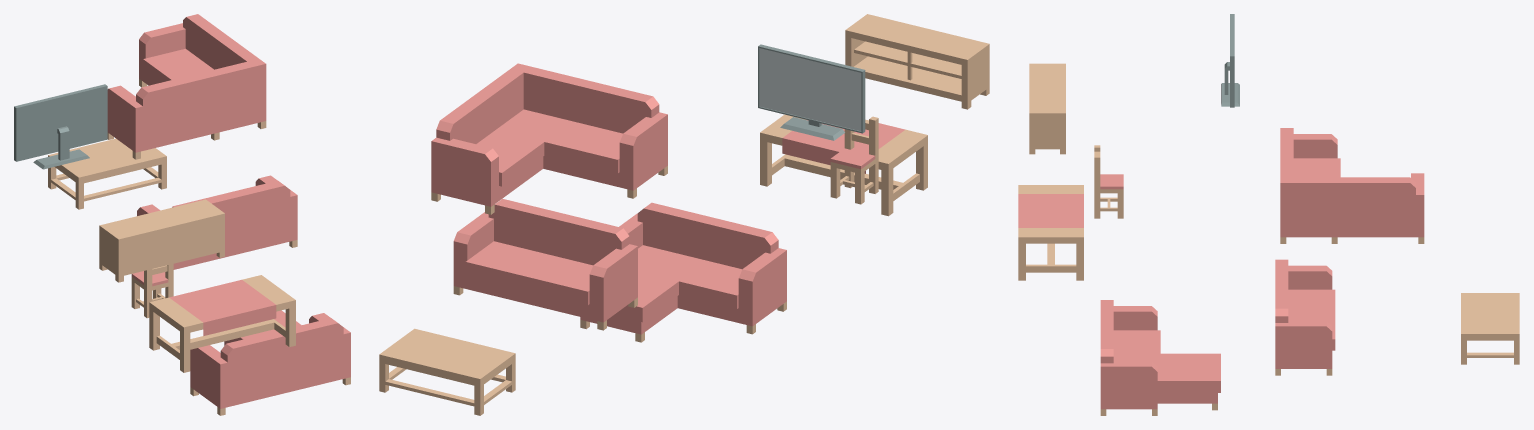
Rendered from livingRoom.dae.
The picture shows the model from 3 angles, left to right: view 1: azimuth 30°, elevation 25°; view 2: azimuth 150°, elevation 25°; view 3: azimuth 270°, elevation 25°; orthographic projection. The views are drawn at different scales.
Parts seen in each view (by area): view 1: loungeSofaCorner, loungeSofaLong, tableCloth, cabinetTelevision, televisionModern, loungeSofa, tableCoffee, chairCushion; view 2: loungeSofaCorner, loungeSofa, loungeSofaLong, cabinetTelevision, televisionModern, tableCloth, tableCoffee, chairCushion; view 3: loungeSofaCorner, loungeSofaLong, loungeSofa, tableCloth, tableCoffee, cabinetTelevision, chairCushion, televisionModern.
Boxes of the visible parts, <box> form: loungeSofaCorner: <box>107,14,266,159</box>; loungeSofaLong: <box>190,310,350,415</box>; tableCloth: <box>149,275,295,372</box>; cabinetTelevision: <box>99,199,224,282</box>; televisionModern: <box>14,84,107,169</box>; loungeSofa: <box>137,175,297,269</box>; tableCoffee: <box>48,138,166,209</box>; chairCushion: <box>131,263,173,318</box>; loungeSofaCorner: <box>431,63,667,214</box>; loungeSofa: <box>453,198,637,330</box>; loungeSofaLong: <box>580,202,786,342</box>; cabinetTelevision: <box>845,14,989,109</box>; televisionModern: <box>758,44,865,140</box>; tableCloth: <box>760,114,927,216</box>; tableCoffee: <box>379,328,515,415</box>; chairCushion: <box>830,116,878,204</box>; loungeSofaCorner: <box>1280,128,1424,243</box>; loungeSofaLong: <box>1100,300,1220,415</box>; loungeSofa: <box>1275,259,1335,375</box>; tableCloth: <box>1018,185,1083,280</box>; tableCoffee: <box>1461,293,1519,364</box>; cabinetTelevision: <box>1029,63,1065,154</box>; chairCushion: <box>1094,145,1123,218</box>; televisionModern: <box>1221,14,1239,107</box>.
Size of the model in its own units: 2.31 by 3.42 by 2.09.
